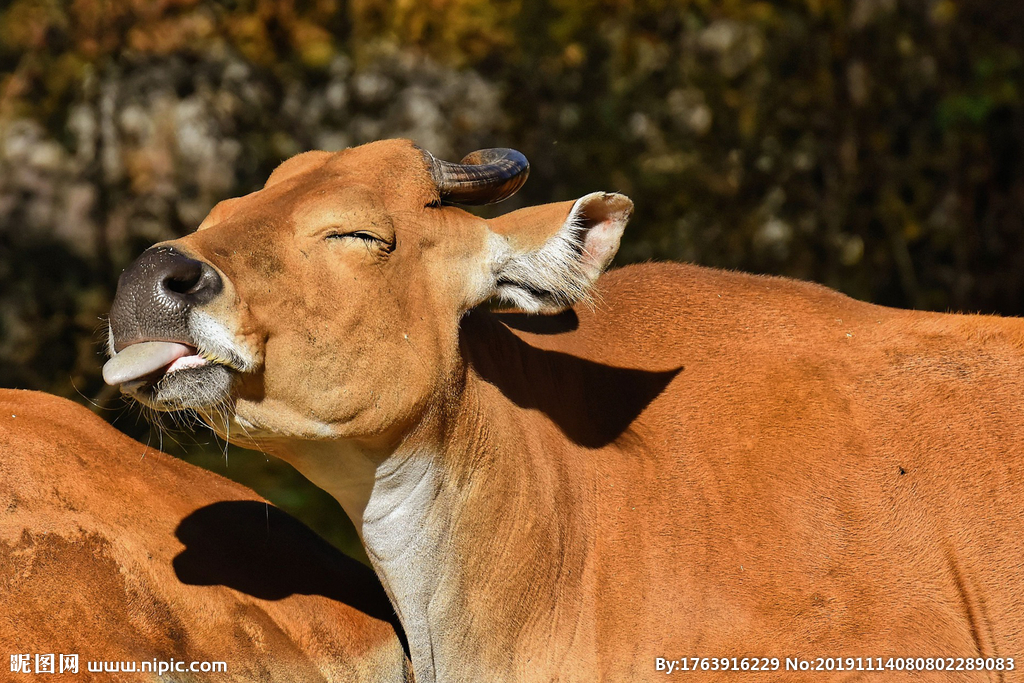background: (93, 118, 723, 600)
